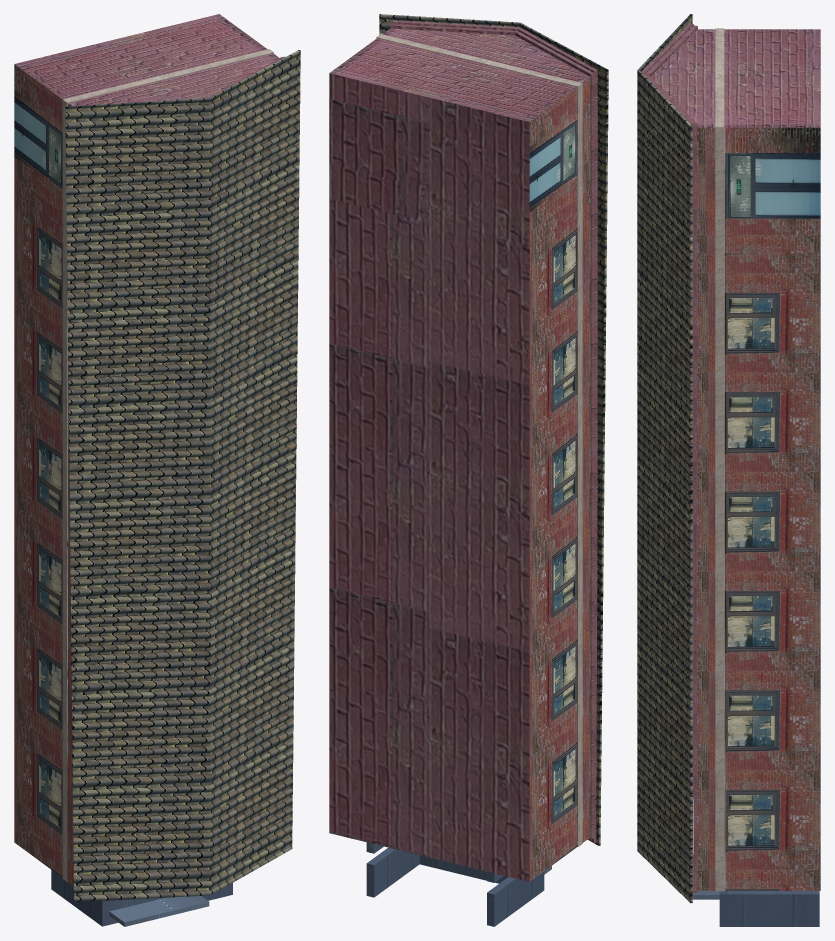
The picture shows the model from 3 angles, left to right: view 1: azimuth 30°, elevation 25°; view 2: azimuth 150°, elevation 25°; view 3: azimuth 270°, elevation 25°; orthographic projection. The views are drawn at different scales.
Parts seen in each view (by area): view 1: qiang; view 2: qiang; view 3: qiang.
Part boxes in pixels (box(x1,y1,x2,y2)): qiang: box(14, 14, 300, 926); qiang: box(329, 14, 608, 926); qiang: box(637, 14, 820, 926).
Size of the model in its own units: 12.21 by 41.82 by 8.41.
Materials: 17 (17 with a texture image).
